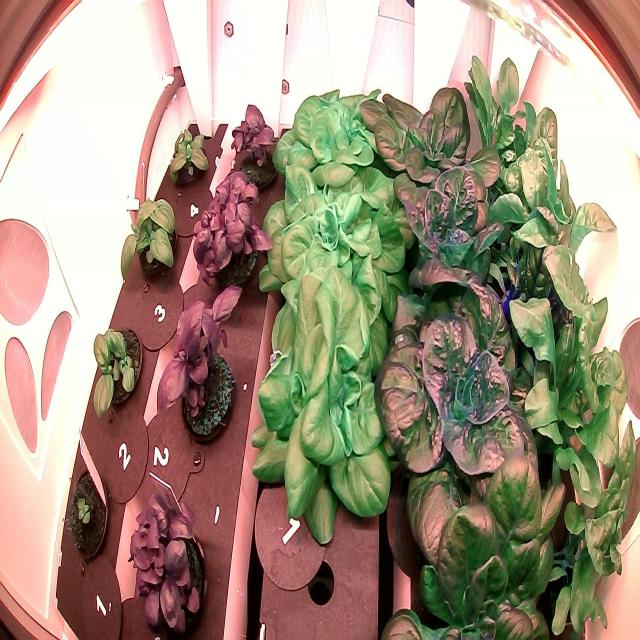Ready: (372, 263, 567, 563), (248, 271, 409, 548), (246, 162, 410, 326), (351, 69, 511, 232), (384, 147, 524, 325), (269, 81, 395, 202)
young: (386, 425, 584, 640)
